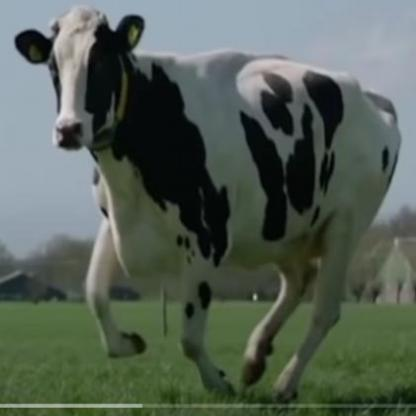cow: (15, 7, 401, 395)
